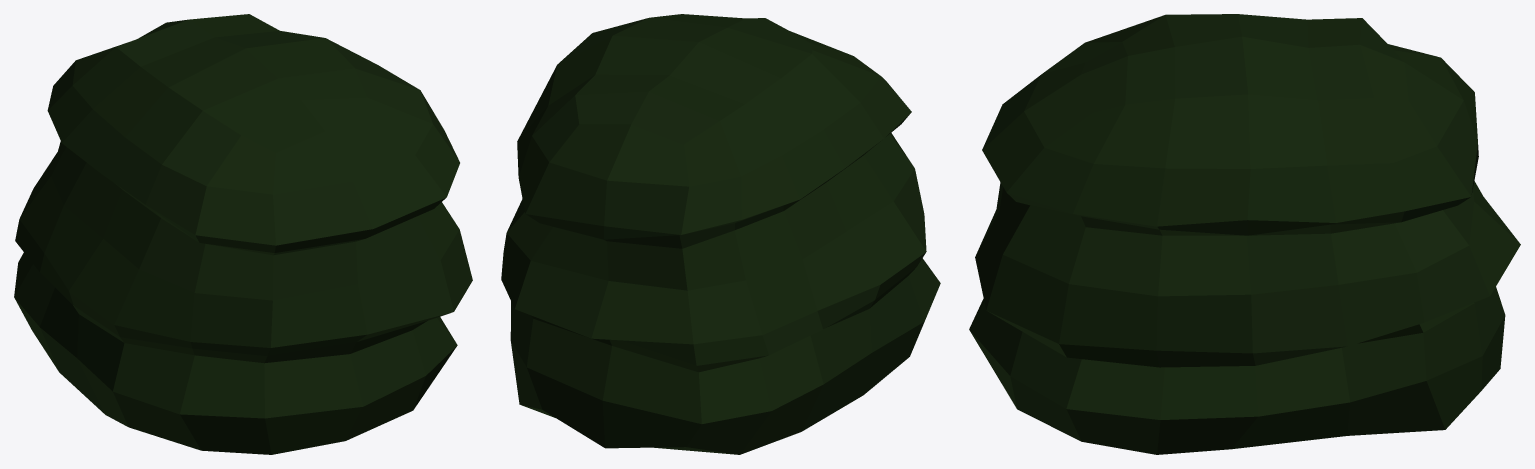
The model's file is Bush_1.glb.
3 views of the same model, side by side, from view 1: azimuth 30°, elevation 25°; view 2: azimuth 150°, elevation 25°; view 3: azimuth 270°, elevation 25° (orthographic). The views are drawn at different scales.
Visible parts, largest first — view 1: Bush_1_Cube.045; view 2: Bush_1_Cube.045; view 3: Bush_1_Cube.045.
Part boxes in pixels (x1,y1,x2,y2): Bush_1_Cube.045: (14, 14, 472, 454); Bush_1_Cube.045: (501, 14, 940, 454); Bush_1_Cube.045: (969, 14, 1520, 454).
Size of the model in its own units: 1.33 by 1.24 by 1.69.
